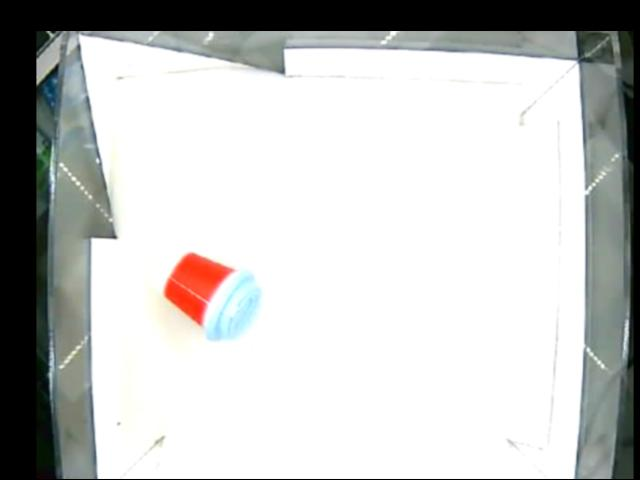Cup: (153, 249, 263, 341)
